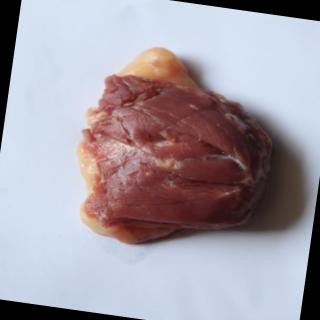Daging Sapi: (70, 38, 285, 263)
